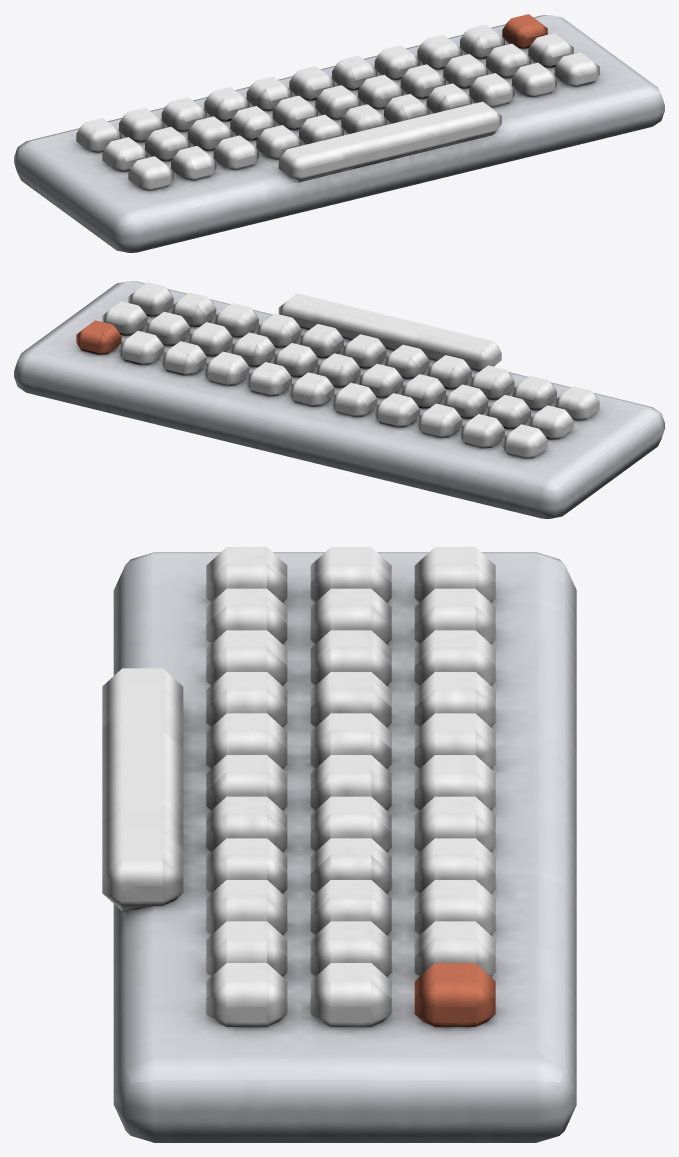
Rendered from keyboard.glb.
3 views of the same model, one above another, from view 1: azimuth 30°, elevation 25°; view 2: azimuth 150°, elevation 25°; view 3: azimuth 270°, elevation 25° (orthographic). The views are drawn at different scales.
Visible parts, largest first — view 1: keyboard; view 2: keyboard; view 3: keyboard.
Boxes of the visible parts, x1,y1,x2,y2 form: keyboard: [14, 14, 664, 252]; keyboard: [14, 281, 664, 518]; keyboard: [102, 547, 576, 1142].
Bounding box in the file's own units: 0.44 × 0.048 × 0.164.
3 materials, 3 textured.
